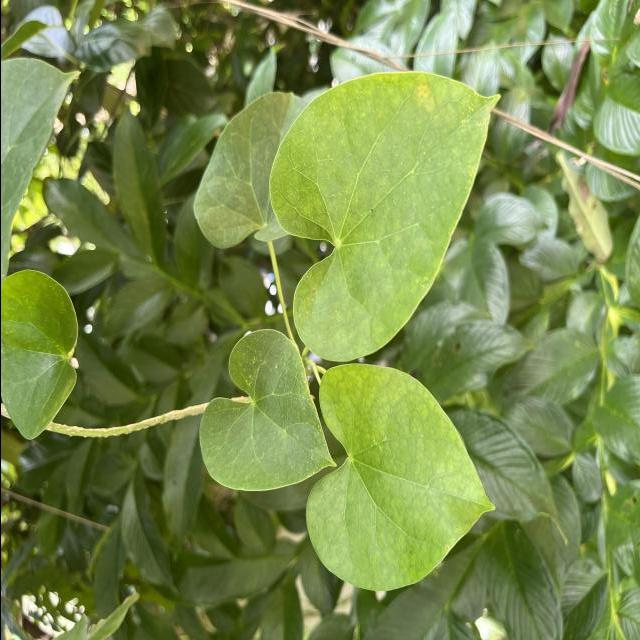Tinospora cordifolia: (264, 68, 503, 366), (302, 360, 497, 596), (195, 326, 338, 494)
